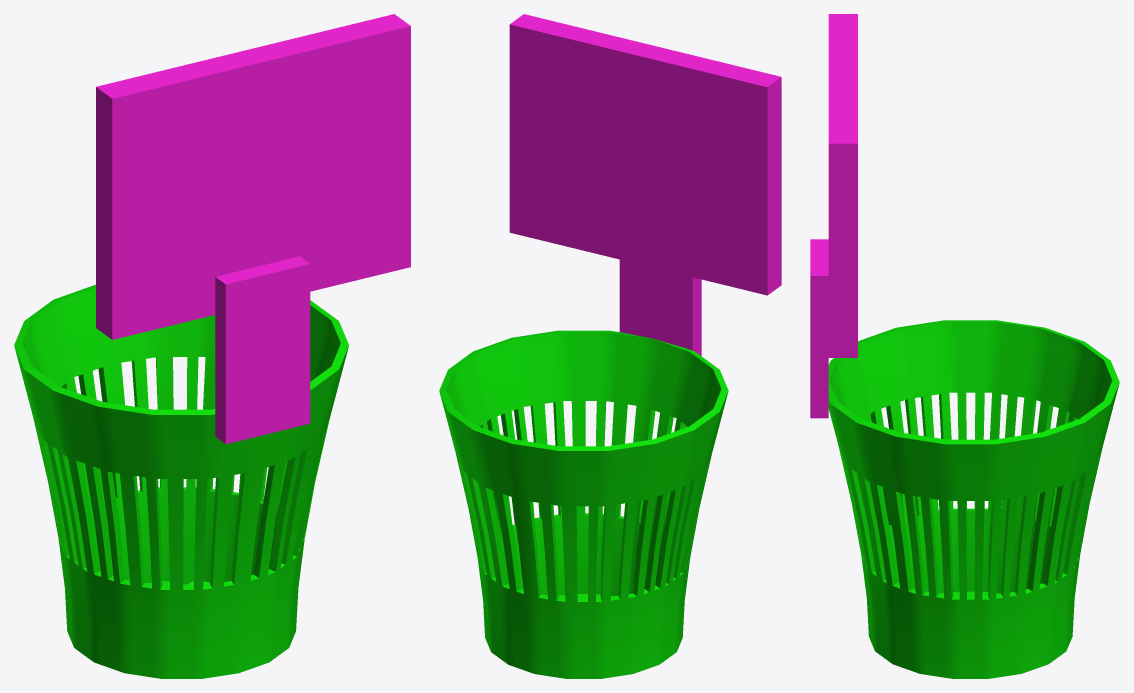
Rendered from A_JD_Trash_003.fbx.
The picture shows the model from 3 angles, left to right: view 1: azimuth 30°, elevation 25°; view 2: azimuth 150°, elevation 25°; view 3: azimuth 270°, elevation 25°; orthographic projection. The views are drawn at different scales.
Parts seen in each view (by area): view 1: Trash; view 2: Trash; view 3: Trash.
Part boxes in pixels (<box>): Trash: <box>14,14,410,678</box>; Trash: <box>439,14,781,678</box>; Trash: <box>810,14,1119,678</box>.
Bounding box in the file's own units: 41.07 × 82.47 × 41.48.
